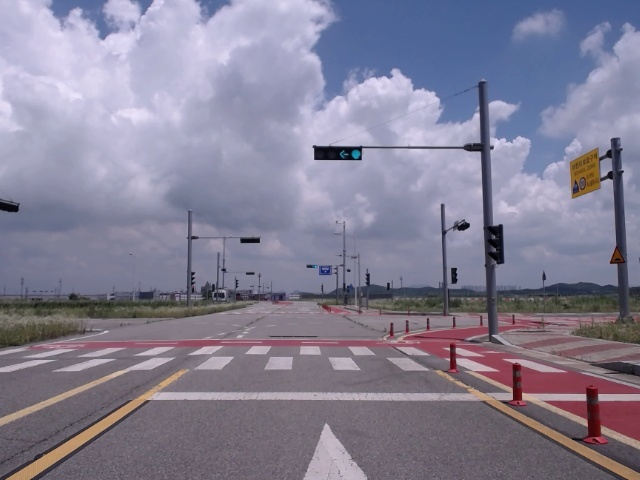all_green_4: (313, 145, 364, 160)
